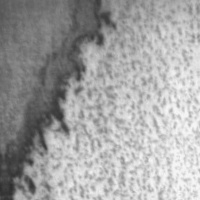patches: (0, 1, 114, 200)
pitted_surface: (30, 5, 200, 200)
